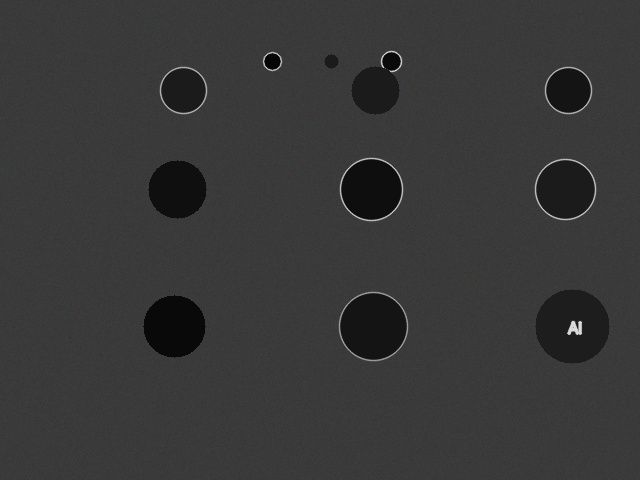hole: (535, 289, 609, 363), (339, 292, 407, 360), (340, 158, 402, 220), (143, 295, 205, 357), (535, 159, 595, 219), (148, 160, 206, 218), (351, 66, 399, 114), (160, 67, 206, 113), (545, 67, 591, 113), (381, 51, 401, 71), (263, 52, 281, 70), (324, 54, 338, 68)
